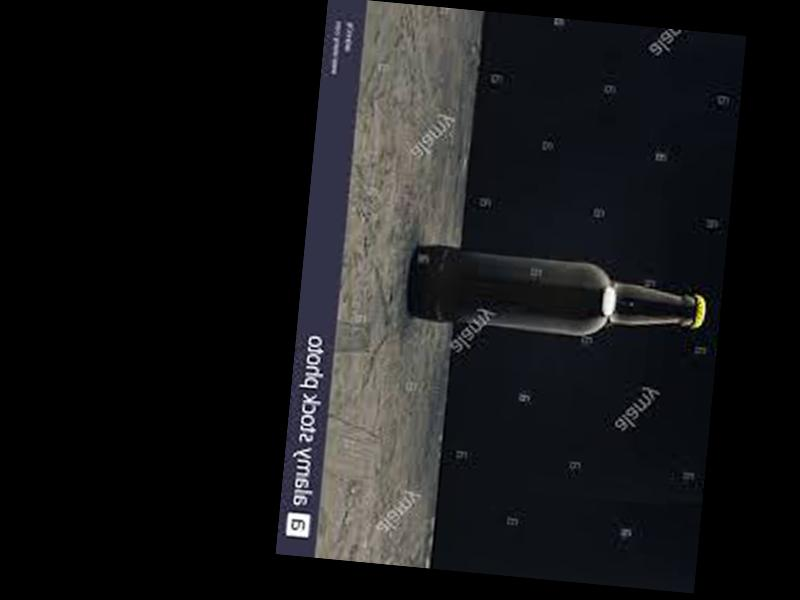Beer: (407, 244, 708, 340)
